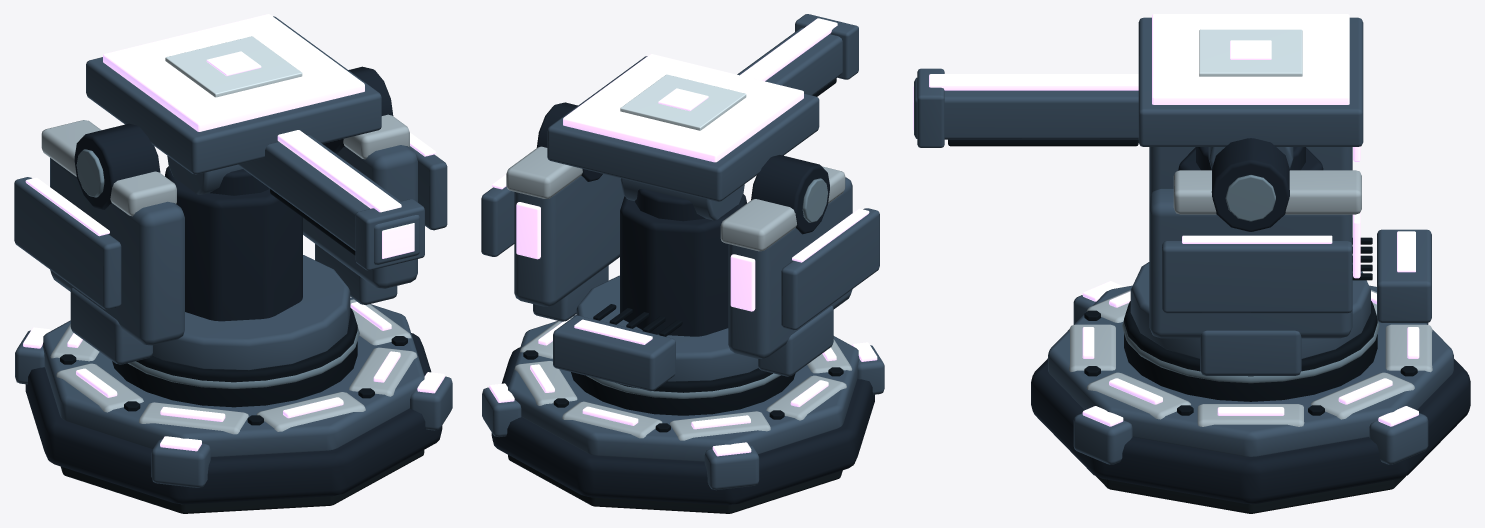
Rendered from prism_beam.fbx.
The picture shows the model from 3 angles, left to right: view 1: azimuth 30°, elevation 25°; view 2: azimuth 150°, elevation 25°; view 3: azimuth 270°, elevation 25°; orthographic projection. The views are drawn at different scales.
Visible parts, largest first — view 1: Yaw_Geometry, Base_Geometry, Recoil_Geometry, Tier3_Cooling_Geometry, Apex_sector_3_Geometry, Apex_sector_0_Geometry, Apex_sector_2_Geometry, Tier2_Light_07_Geometry; view 2: Yaw_Geometry, Base_Geometry, Recoil_Geometry, Tier2_Capacitor_Geometry, Tier3_Cooling_Geometry, Apex_sector_2_Geometry, Apex_sector_1_Geometry, Apex_sector_3_Geometry, Tier3_Light_05_Geometry; view 3: Base_Geometry, Recoil_Geometry, Yaw_Geometry, Tier2_Capacitor_Geometry, Tier3_Cooling_Geometry, Apex_sector_1_Geometry, Apex_sector_0_Geometry, Apex_sector_3_Geometry.
Boxes of the visible parts, box(x1,y1,x2,y2) form: Yaw_Geometry: box(14, 66, 447, 370); Base_Geometry: box(25, 297, 442, 513); Recoil_Geometry: box(86, 14, 424, 270); Tier3_Cooling_Geometry: box(70, 244, 397, 364); Apex_sector_3_Geometry: box(151, 436, 210, 487); Apex_sector_0_Geometry: box(410, 372, 452, 430); Apex_sector_2_Geometry: box(15, 327, 50, 384); Tier2_Light_07_Geometry: box(160, 407, 225, 421); Yaw_Geometry: box(481, 102, 879, 381); Base_Geometry: box(491, 315, 874, 513); Recoil_Geometry: box(547, 14, 858, 201); Tier2_Capacitor_Geometry: box(553, 315, 675, 391); Tier3_Cooling_Geometry: box(533, 265, 833, 376); Apex_sector_2_Geometry: box(704, 442, 759, 490); Apex_sector_1_Geometry: box(482, 383, 521, 437); Apex_sector_3_Geometry: box(852, 342, 884, 394); Tier3_Light_05_Geometry: box(691, 415, 750, 429); Base_Geometry: box(1031, 285, 1470, 513); Recoil_Geometry: box(913, 14, 1363, 147); Yaw_Geometry: box(1130, 138, 1372, 358); Tier2_Capacitor_Geometry: box(1377, 229, 1431, 322); Tier3_Cooling_Geometry: box(1200, 330, 1301, 375); Apex_sector_1_Geometry: box(1369, 406, 1428, 464); Apex_sector_0_Geometry: box(1073, 406, 1132, 464); Apex_sector_3_Geometry: box(1073, 281, 1123, 324).
Bounding box in the file's own units: 2.08 × 1.98 × 2.63.
